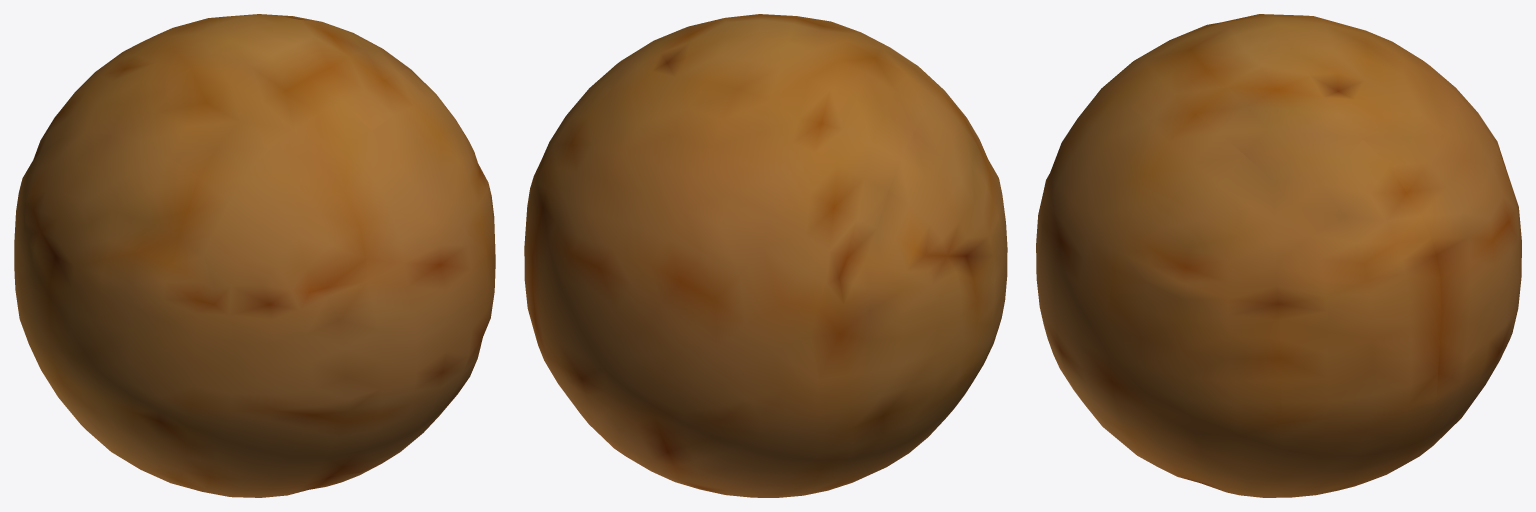
Rendered from 03-6493457-vertex.glb.
3 views of the same model, side by side, from view 1: azimuth 30°, elevation 25°; view 2: azimuth 150°, elevation 25°; view 3: azimuth 270°, elevation 25° (orthographic).
Visible parts, largest first — view 1: Retopo_neural_node_ff57b42b-b118-4120-b749-34a5434d7112; view 2: Retopo_neural_node_ff57b42b-b118-4120-b749-34a5434d7112; view 3: Retopo_neural_node_ff57b42b-b118-4120-b749-34a5434d7112.
Boxes of the visible parts, x1=… form: Retopo_neural_node_ff57b42b-b118-4120-b749-34a5434d7112: x1=14, y1=14, x2=495, y2=497; Retopo_neural_node_ff57b42b-b118-4120-b749-34a5434d7112: x1=524, y1=14, x2=1007, y2=497; Retopo_neural_node_ff57b42b-b118-4120-b749-34a5434d7112: x1=1036, y1=14, x2=1521, y2=497.
Size of the model in its own units: 0.4811 by 0.4862 by 0.4875.
